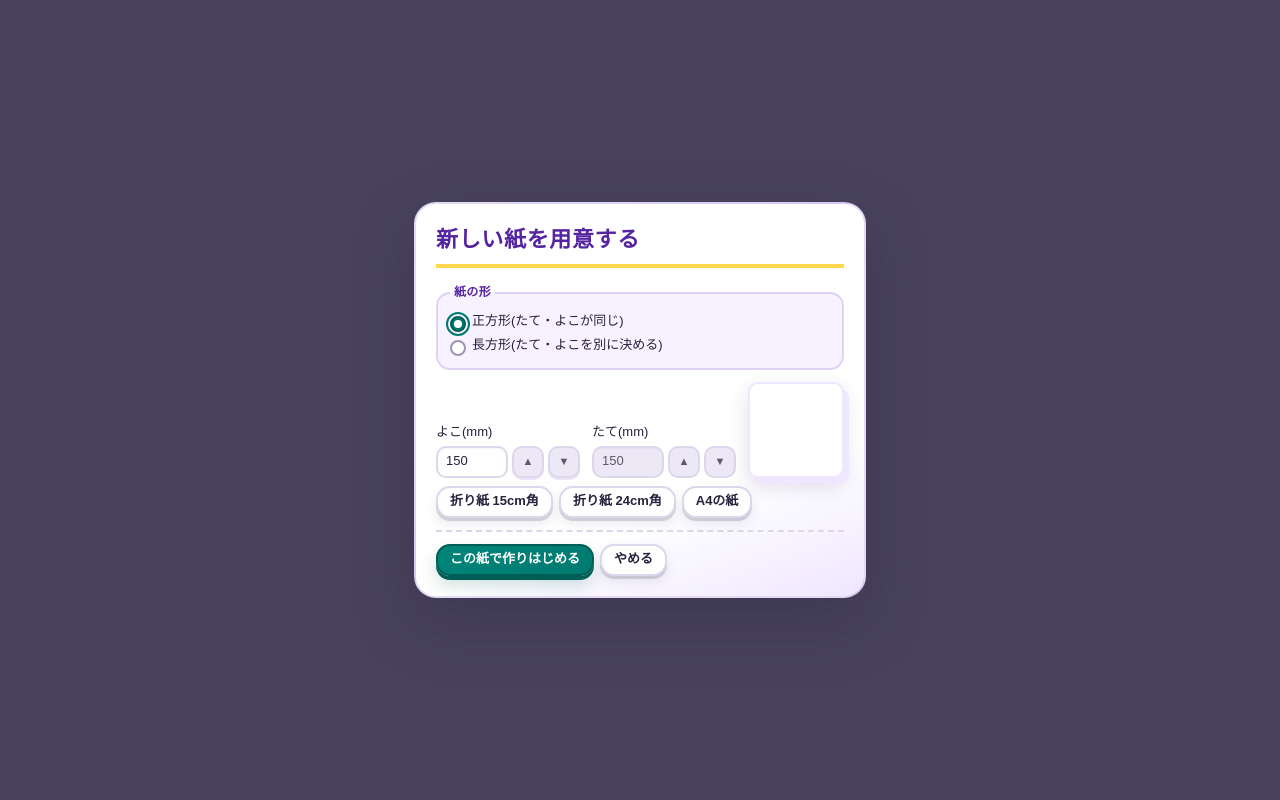
Scenario: 新規作成ダイアログ › 0以下の大きさでは作りはじめられず、理由を出す
Replace the text in the number field labelled "よこ(mm)" with "0": (472, 462) [436,446,508,478]
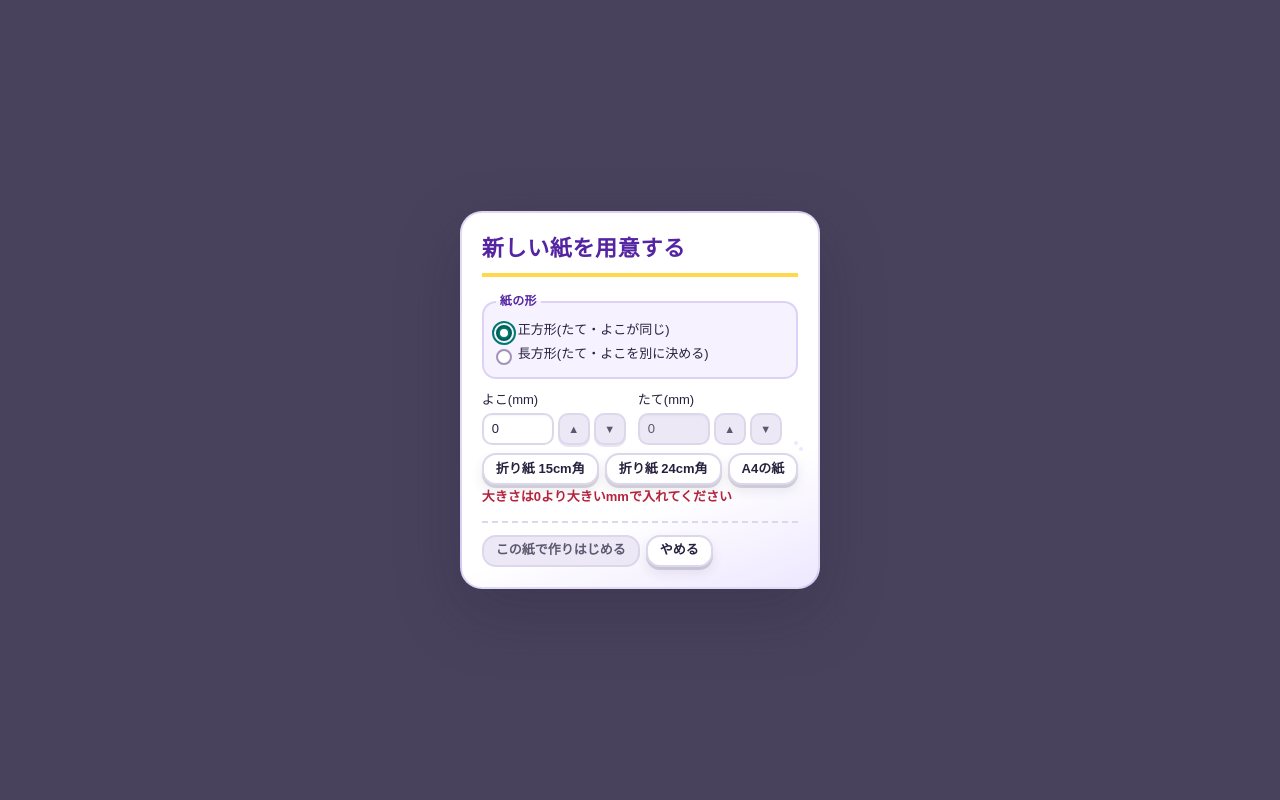
Expected: the button "この紙で作りはじめる" is disabled, [482,535,640,567]
Expected: the text "大きさは0より大きいmmで入れてください" is shown, [482,489,732,504]
